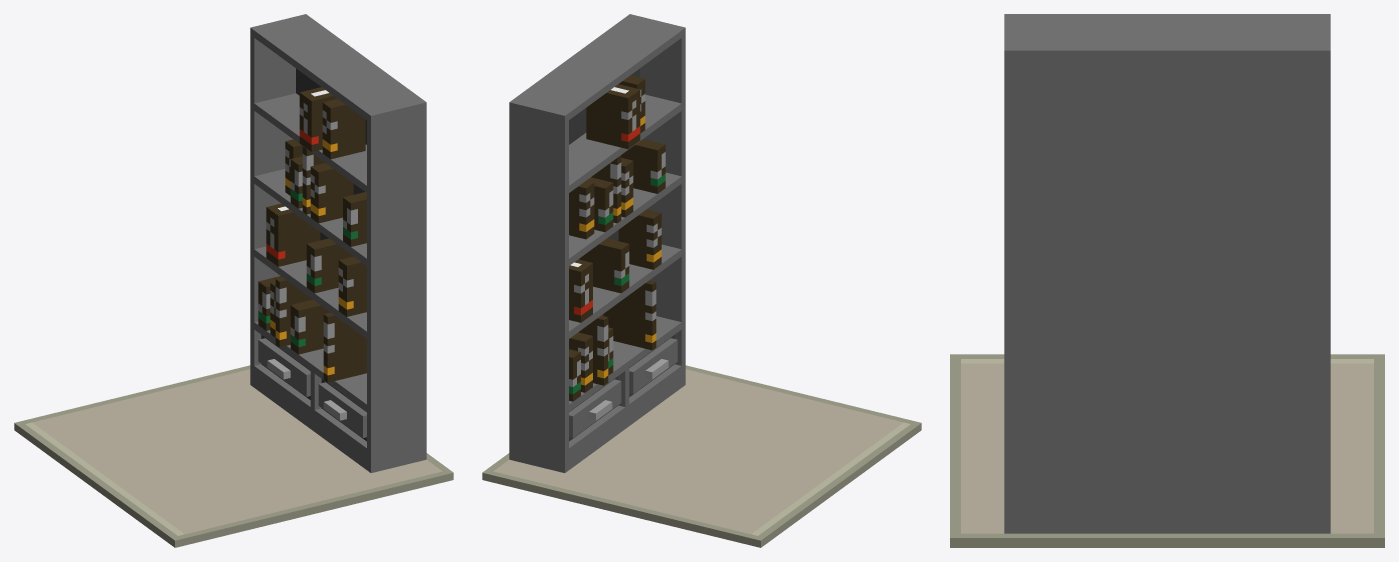
File: Prateleira_1.obj
3 views of the same model, side by side, from view 1: azimuth 30°, elevation 25°; view 2: azimuth 150°, elevation 25°; view 3: azimuth 270°, elevation 25° (orthographic). The views are drawn at different scales.
Bounding box in the file's own units: 40 × 50 × 40.
Materials: 1 (1 with a texture image).
